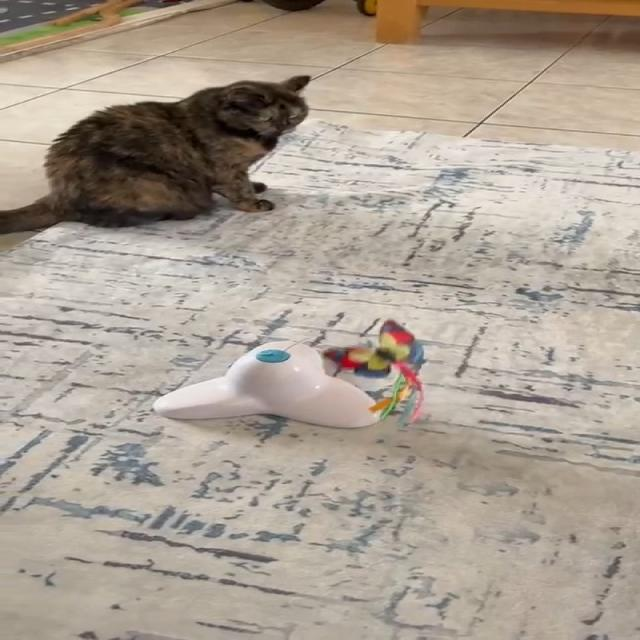authorized: (0, 74, 311, 235)
